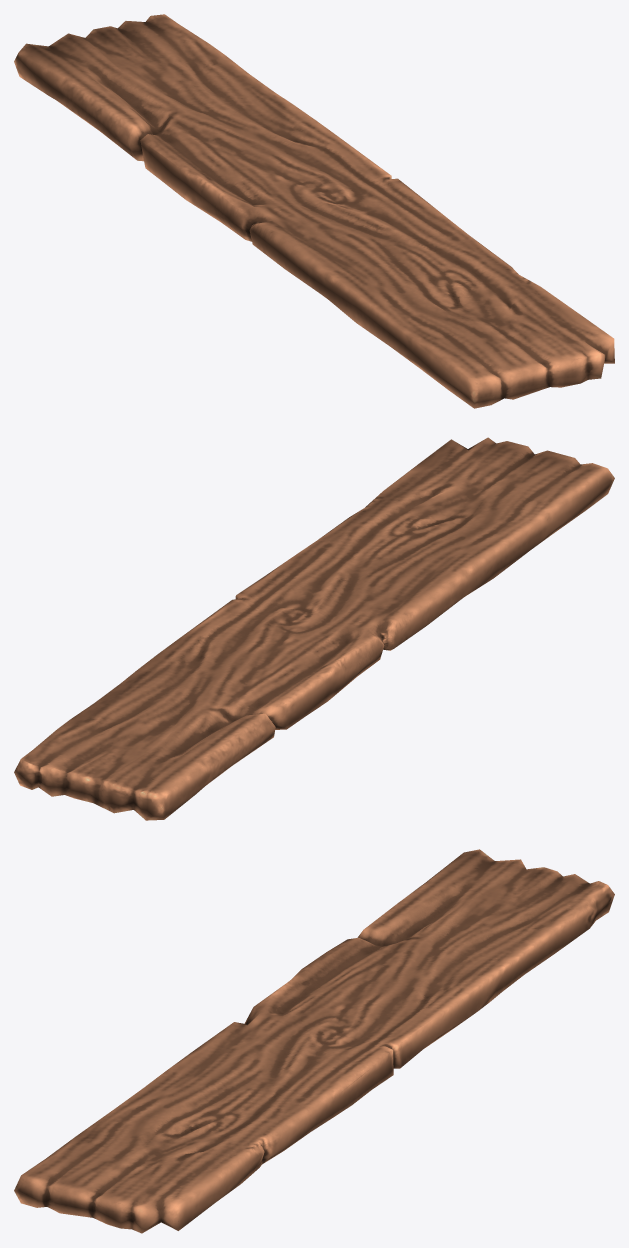
Rendered from low_poly_wooden_plank.glb.
3 renders of one model, top to bottom at view 1: azimuth 30°, elevation 25°; view 2: azimuth 150°, elevation 25°; view 3: azimuth 330°, elevation 25°, orthographic.
Visible parts, largest first — view 1: plank LQ; view 2: plank LQ; view 3: plank LQ.
Part boxes in pixels (x1,y1,x2,y2): plank LQ: [14, 14, 614, 408]; plank LQ: [14, 437, 614, 820]; plank LQ: [14, 849, 614, 1233].
Bounding box in the file's own units: 0.2536 × 0.0452 × 1.3.
1 material, 1 textured.
